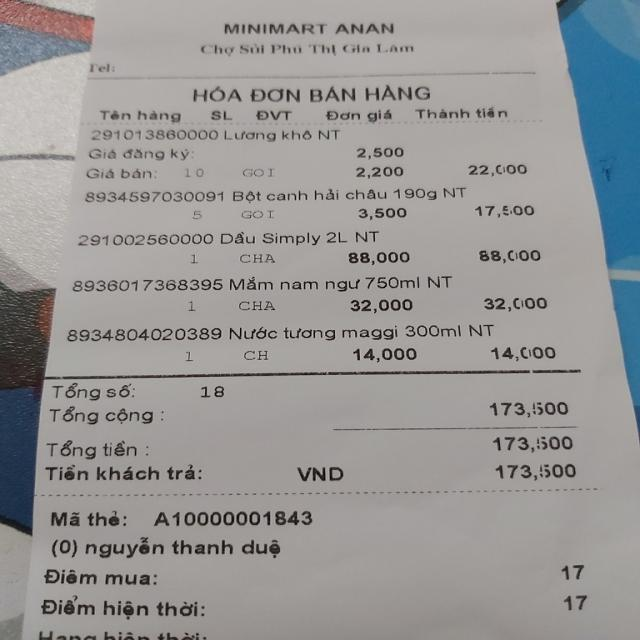Store_Name: (219, 18, 404, 39)
amount_number: (486, 397, 577, 418)
label_total: (48, 404, 162, 425)
